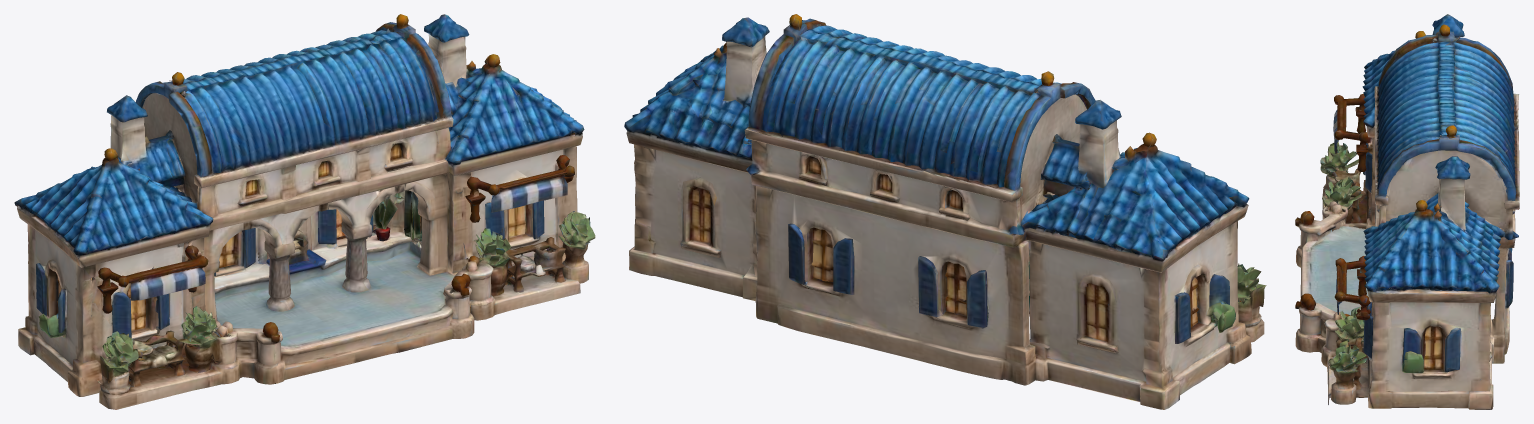
3 renders of one model, left to right at view 1: azimuth 30°, elevation 25°; view 2: azimuth 150°, elevation 25°; view 3: azimuth 270°, elevation 25°, orthographic. The views are drawn at different scales.
Visible parts, largest first — view 1: harbor__onsen_2__native_mobile; view 2: harbor__onsen_2__native_mobile; view 3: harbor__onsen_2__native_mobile.
Boxes of the visible parts, bbox=[...] form: harbor__onsen_2__native_mobile: bbox=[14, 14, 595, 409]; harbor__onsen_2__native_mobile: bbox=[624, 14, 1266, 409]; harbor__onsen_2__native_mobile: bbox=[1295, 14, 1519, 409].
Size of the model in its own units: 1 by 0.4757 by 0.411.
Materials: 1 (1 with a texture image).
